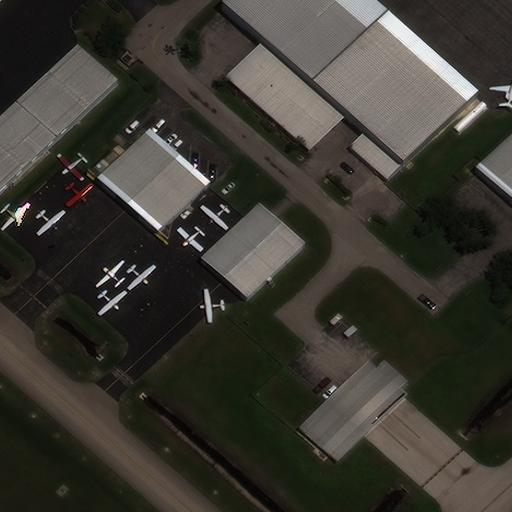Small Civil Transport: (199, 289, 226, 322), (490, 73, 512, 107), (3, 205, 31, 231), (199, 205, 227, 231), (56, 156, 84, 181), (38, 212, 66, 236), (100, 292, 128, 316), (94, 260, 120, 285), (129, 267, 156, 291), (67, 185, 94, 207), (176, 229, 201, 252)
